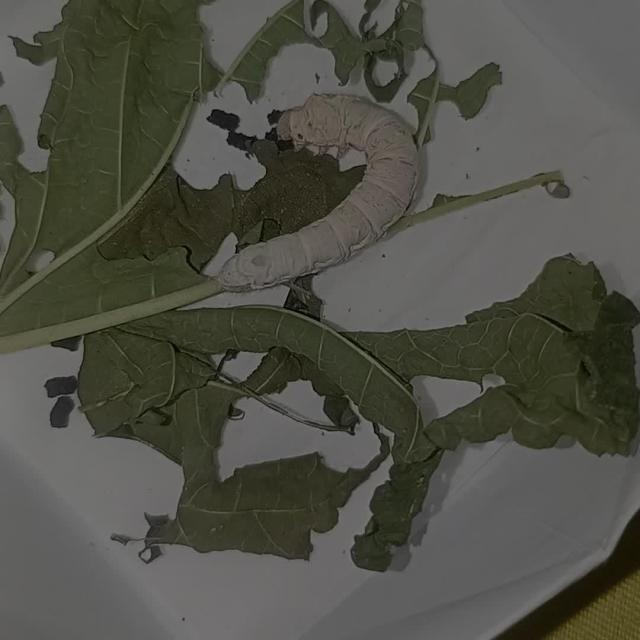Healthy: (214, 84, 426, 295)
